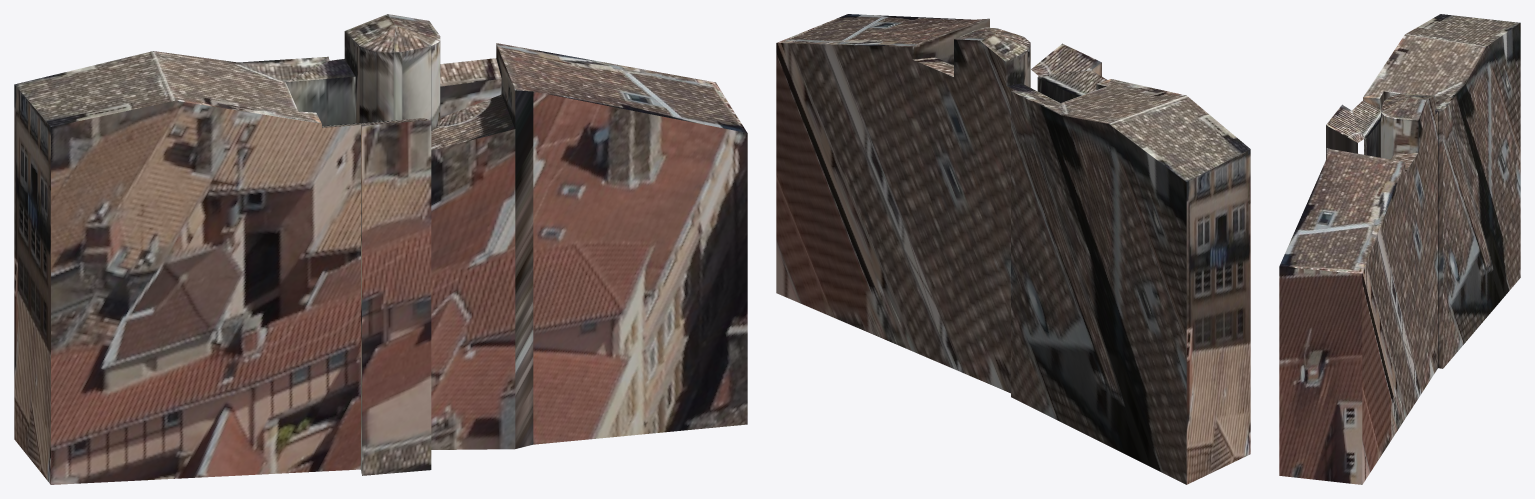
3 renders of one model, left to right at view 1: azimuth 30°, elevation 25°; view 2: azimuth 150°, elevation 25°; view 3: azimuth 270°, elevation 25°, orthographic. The views are drawn at different scales.
Visible parts, largest first — view 1: Z_UP; view 2: Z_UP; view 3: Z_UP.
Boxes of the visible parts, x1,y1,x2,y2 form: Z_UP: (14,14,747,484); Z_UP: (776,14,1250,484); Z_UP: (1279,14,1520,484).
Size of the model in its own units: 36.07 by 22.48 by 17.19.
Materials: 2 (1 with a texture image).
